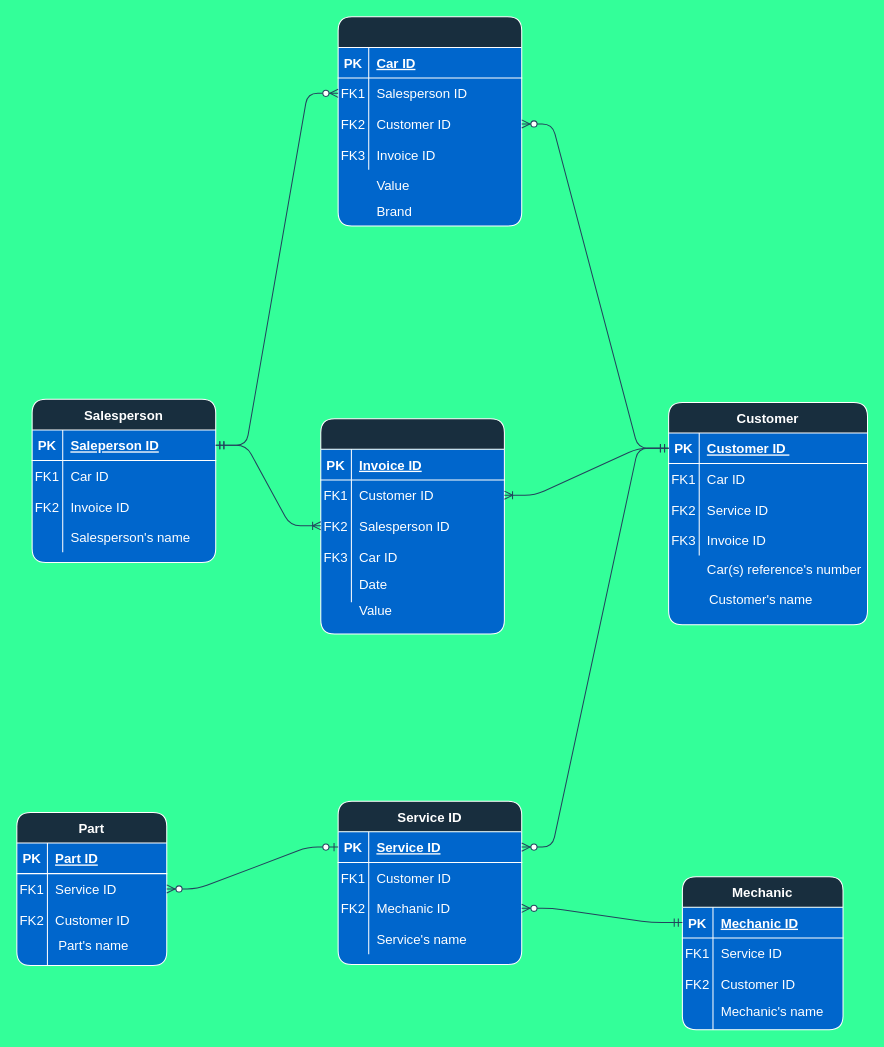
This 884x1047 diagram has some shape labels left out. The shapes that lost their labels are listed below. From the top down, each one's box as (x1, y1, x2, y2) in pixels, then its label:
(337, 16, 522, 226): Car for sale
(320, 418, 504, 634): Invoice for selling car
